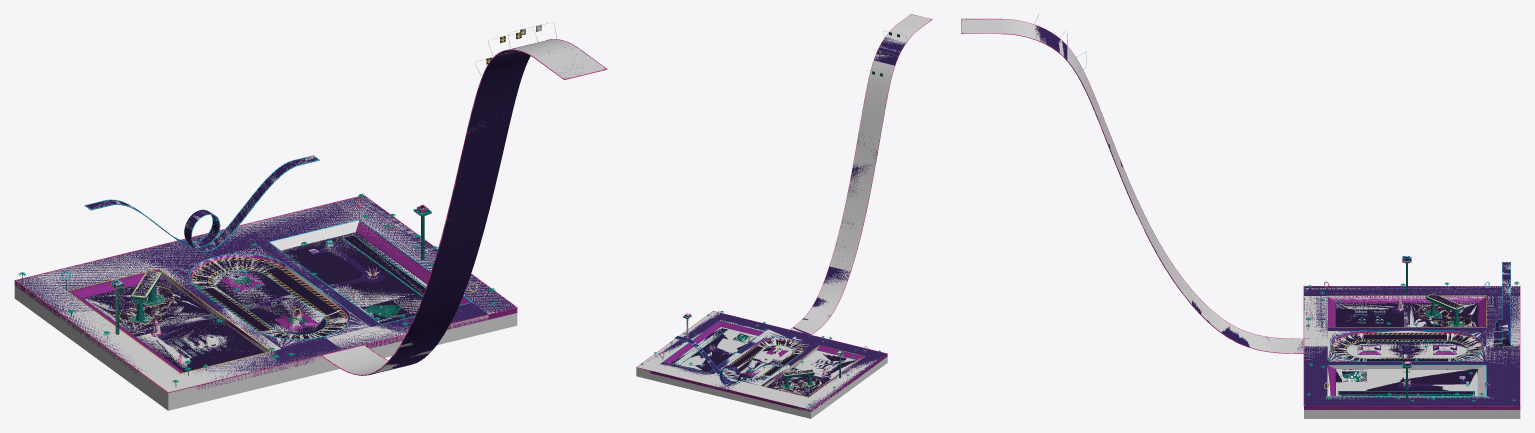
File: world.glb
The picture shows the model from 3 angles, left to right: view 1: azimuth 30°, elevation 25°; view 2: azimuth 150°, elevation 25°; view 3: azimuth 270°, elevation 25°; orthographic projection. The views are drawn at different scales.
Visible parts, largest first — view 1: Plane, Cube.808, Cube.065, NeonGlow, Cube.011, NeonLines, BezierCircle, Cube, Cube.054, Cube.006, BezierCircle.021, Plane.021 (+12 smaller); view 2: Plane, Plane.023, Plane.024, Cube.065, Plane.022, Cube.054, Cube.055, Cube.808, NeonGlow, Cube, Plane.021, BezierCircle (+5 smaller); view 3: Plane, NeonLines, Cube, NeonGlow, Plane.022, Plane.021, BezierCircle, Plane.023, Cube.011, Cube.808, BezierCircle.021, Plane.024 (+5 smaller).
Boxes of the visible parts, x1,y1,x2,y2 form: Plane: (14,196,517,389); Cube.808: (359,41,582,375); Cube.065: (14,274,196,410); NeonGlow: (14,39,607,392); Cube.011: (181,347,339,403); NeonLines: (15,39,606,392); BezierCircle: (84,279,211,333); Cube: (336,196,517,332); Cube.054: (44,239,212,290); Cube.006: (326,315,488,357); BezierCircle.021: (86,156,318,251); Plane.021: (495,39,604,78); Plane: (646,312,887,411); Plane.023: (829,145,877,271); Plane.024: (857,60,894,150); Cube.065: (796,357,887,418); Plane.022: (790,268,850,334); Cube.054: (723,380,807,415); Cube.055: (650,364,735,397); Cube.808: (793,37,905,334); NeonGlow: (636,15,932,409); Cube: (636,311,718,379); Plane.021: (874,14,931,61); BezierCircle: (767,370,829,396); Plane: (1304,286,1520,409); NeonLines: (961,19,1520,406); Cube: (1304,396,1520,418); NeonGlow: (961,18,1520,406); Plane.022: (1192,290,1303,353); Plane.021: (961,19,1064,56); BezierCircle: (1411,303,1477,326); Plane.023: (1115,148,1191,303); Cube.011: (1304,296,1327,346); Cube.808: (1022,25,1302,353); BezierCircle.021: (1494,262,1510,347); Plane.024: (1067,46,1115,161).
Size of what is drawn, in the model's own units: 424 by 555 by 834.
Materials: 21 (21 with a texture image).
